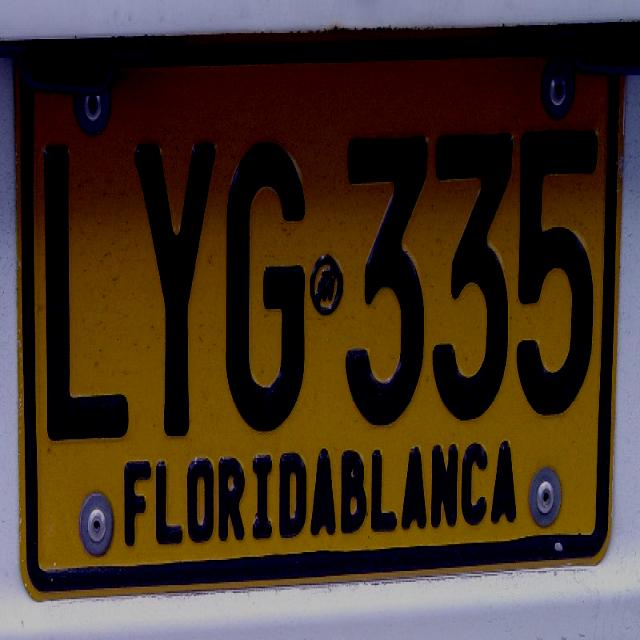placa: (12, 25, 626, 610)
